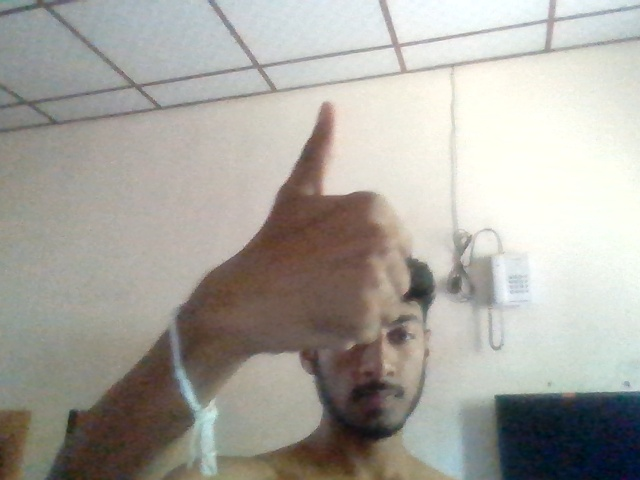ThumbsUp: (243, 100, 411, 356)
